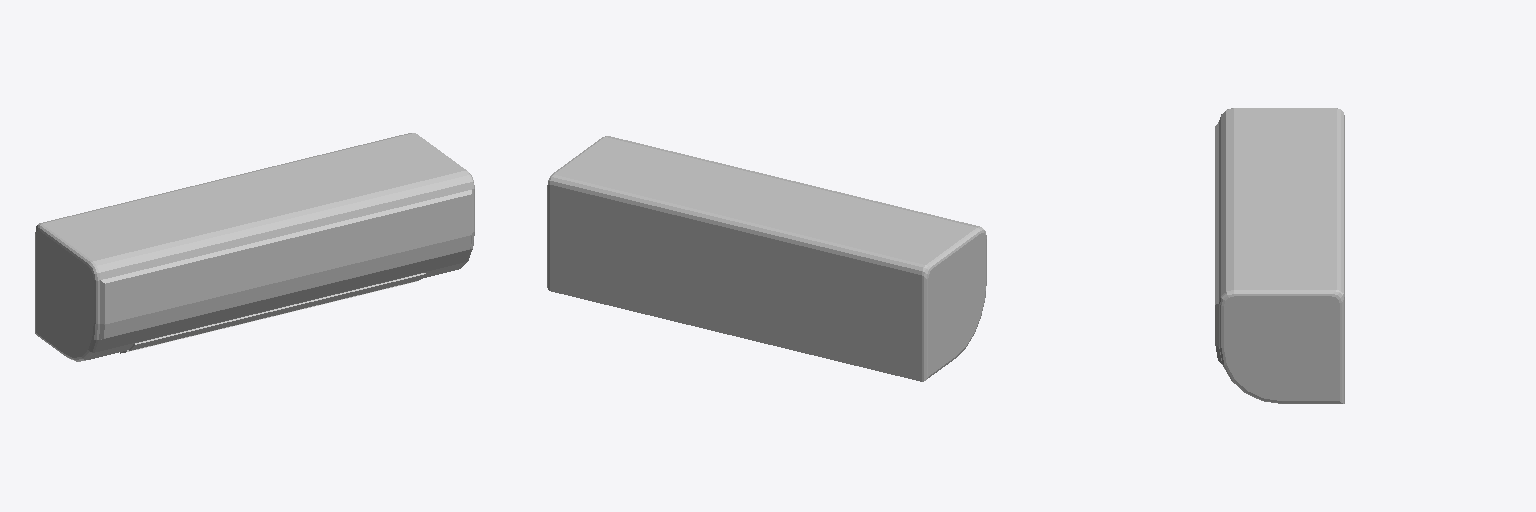
3 renders of one model, left to right at view 1: azimuth 30°, elevation 25°; view 2: azimuth 150°, elevation 25°; view 3: azimuth 270°, elevation 25°, orthographic.
Visible parts, largest first — view 1: AC_Ac_0; view 2: AC_Ac_0; view 3: AC_Ac_0.
Boxes of the visible parts, box(x1,y1,x2,y2) form: AC_Ac_0: box(35, 133, 474, 361); AC_Ac_0: box(547, 136, 986, 381); AC_Ac_0: box(1215, 108, 1344, 403).
Size of the model in its own units: 14 by 4 by 4.12.